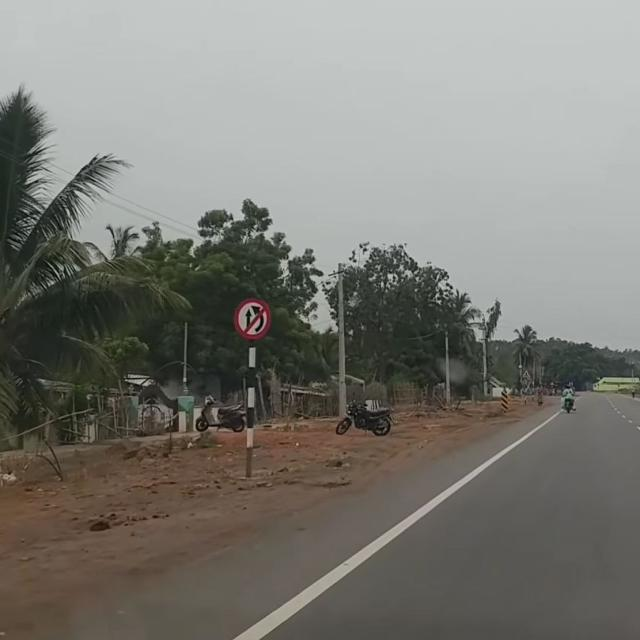overtaking prohibited: (234, 297, 270, 339)
